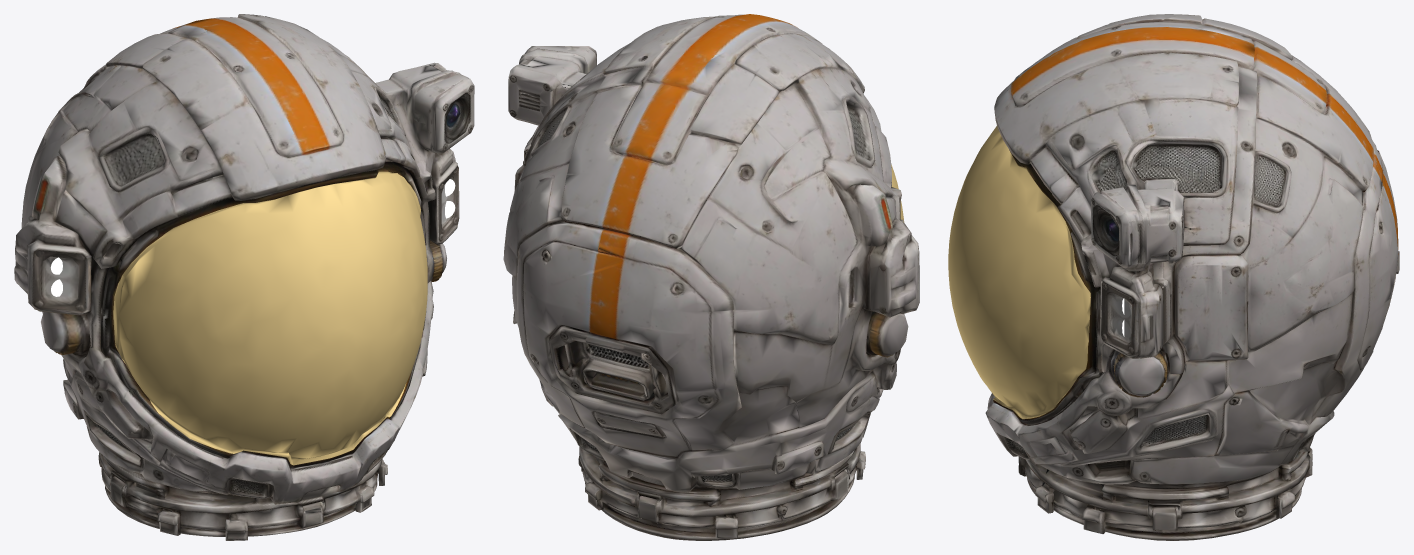
The model's file is suit_helmet.glb.
The picture shows the model from 3 angles, left to right: view 1: azimuth 30°, elevation 25°; view 2: azimuth 150°, elevation 25°; view 3: azimuth 270°, elevation 25°; orthographic projection.
Visible parts, largest first — view 1: suit_helmet; view 2: suit_helmet; view 3: suit_helmet.
Boxes of the visible parts, box(x1,y1,x2,y2) form: suit_helmet: box(14, 14, 474, 540); suit_helmet: box(503, 14, 919, 540); suit_helmet: box(948, 14, 1399, 540).
Bounding box in the file's own units: 0.39 × 0.4078 × 0.3626.
4 materials, 2 textured.
